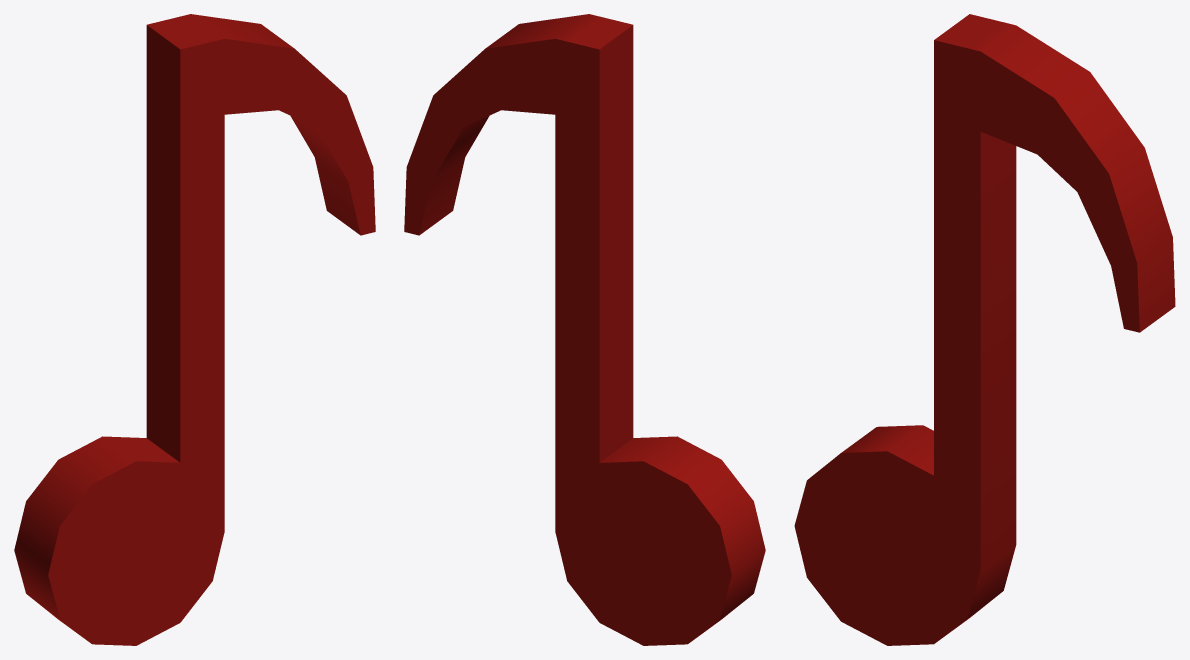
3 views of the same model, side by side, from view 1: azimuth 30°, elevation 25°; view 2: azimuth 150°, elevation 25°; view 3: azimuth 330°, elevation 25° (orthographic). The views are drawn at different scales.
Visible parts, largest first — view 1: Cylinder010; view 2: Cylinder010; view 3: Cylinder010.
Part boxes in pixels (x1,y1,x2,y2): Cylinder010: [14, 14, 375, 645]; Cylinder010: [404, 14, 765, 645]; Cylinder010: [794, 14, 1175, 645].
Size of the model in its own units: 36.82 by 6.59 by 62.89.
